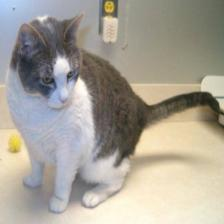cat: (11, 13, 89, 112)
